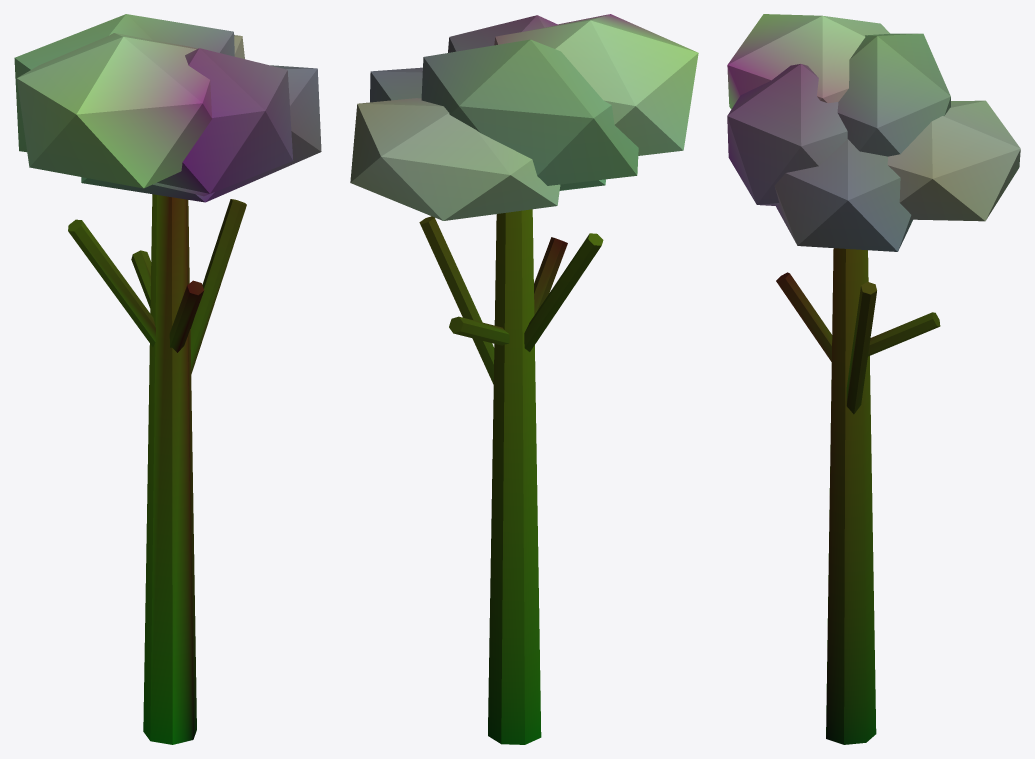
The model's file is broadleaf_04.glb.
The picture shows the model from 3 angles, left to right: view 1: azimuth 30°, elevation 25°; view 2: azimuth 150°, elevation 25°; view 3: azimuth 270°, elevation 25°; orthographic projection. The views are drawn at different scales.
Parts seen in each view (by area): view 1: broadleaf_04; view 2: broadleaf_04; view 3: broadleaf_04.
Part boxes in pixels (x1,y1,x2,y2): broadleaf_04: (14, 14, 321, 744); broadleaf_04: (350, 14, 698, 744); broadleaf_04: (727, 14, 1020, 744).
Bounding box in the file's own units: 2.41 × 5.51 × 2.13.
